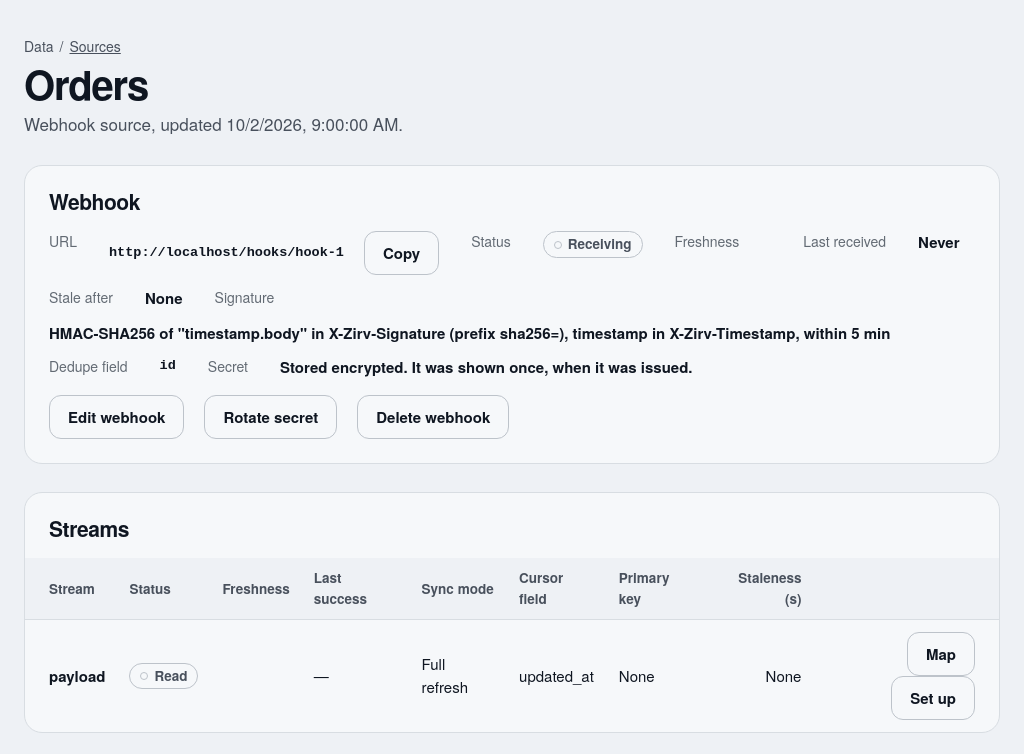
a webhook source › rotates the secret after a confirmation and shows the new one once
The width and height of the screenshot is (1024, 754).
Click the button "Rotate secret": (271, 417) top-left (204, 395), bottom-right (337, 439)
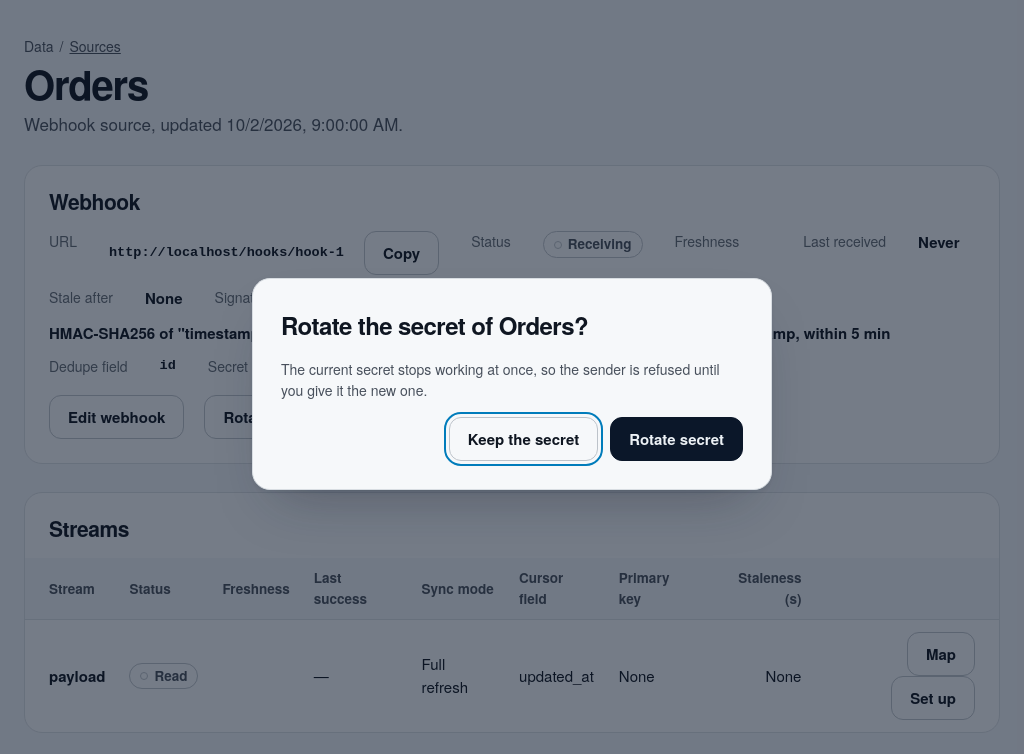
Result: the text "stops working at once" is shown at top-left (281, 359), bottom-right (720, 400)
Click the button "Rotate secret": (677, 439) top-left (610, 417), bottom-right (743, 461)
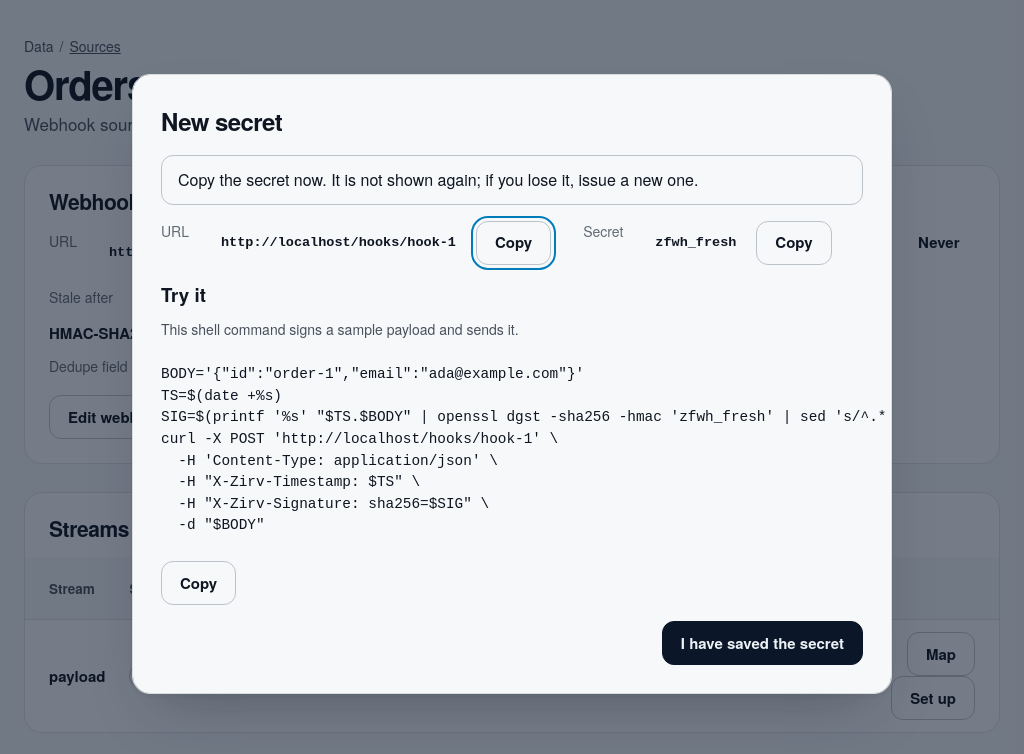
Result: the dialog "New secret" shows "zfwh_fresh" at top-left (655, 234), bottom-right (736, 250)
Click the button "I have saved the secret": (762, 643) top-left (662, 621), bottom-right (863, 665)
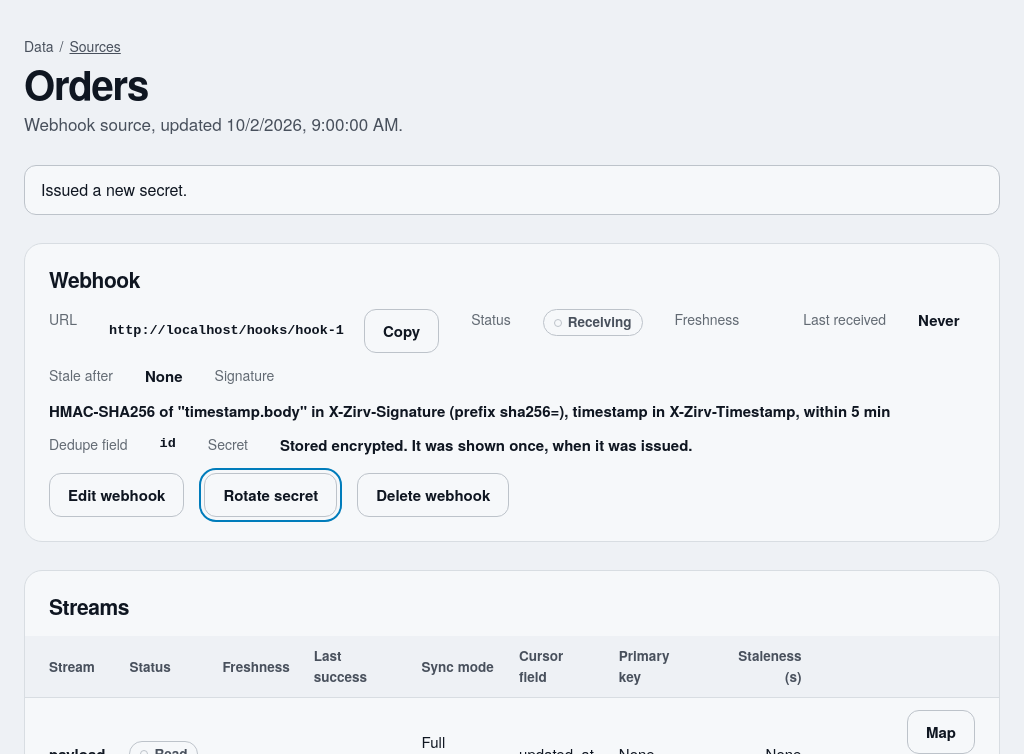
Result: the dialog is gone
Result: the text "zfwh_fresh" is gone
